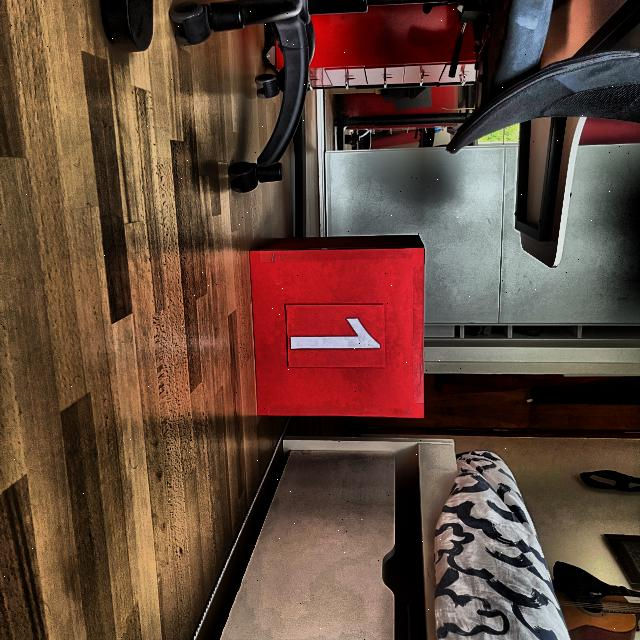one: (287, 309, 384, 355)
red box: (258, 233, 428, 422)
